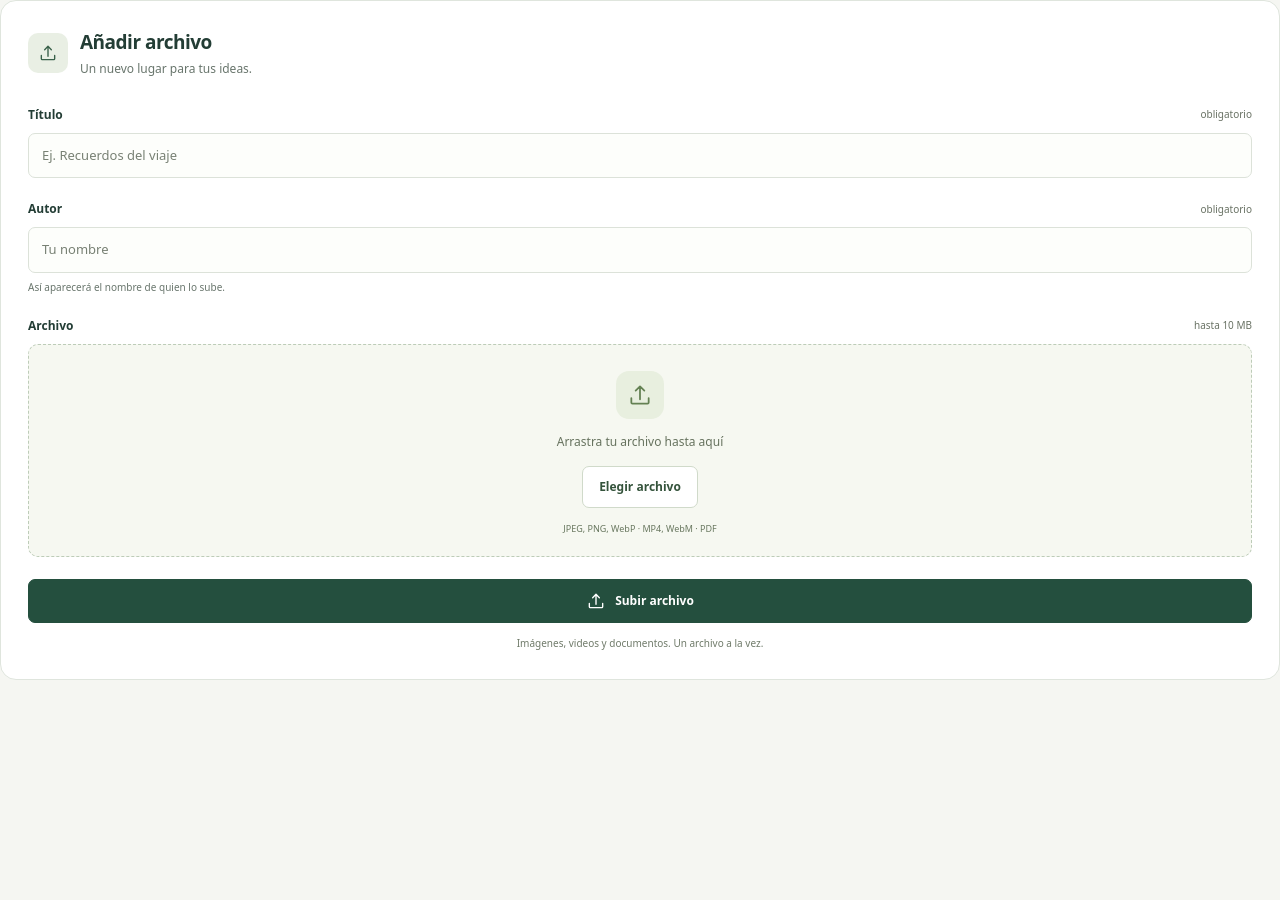
it: el formulario requiere título, autor y archivo y enfoca el primer error
The image size is (1280, 900).
Click the button "Subir archivo". click: point(640, 601)
box: x1=28 y1=579 x2=1252 y2=623
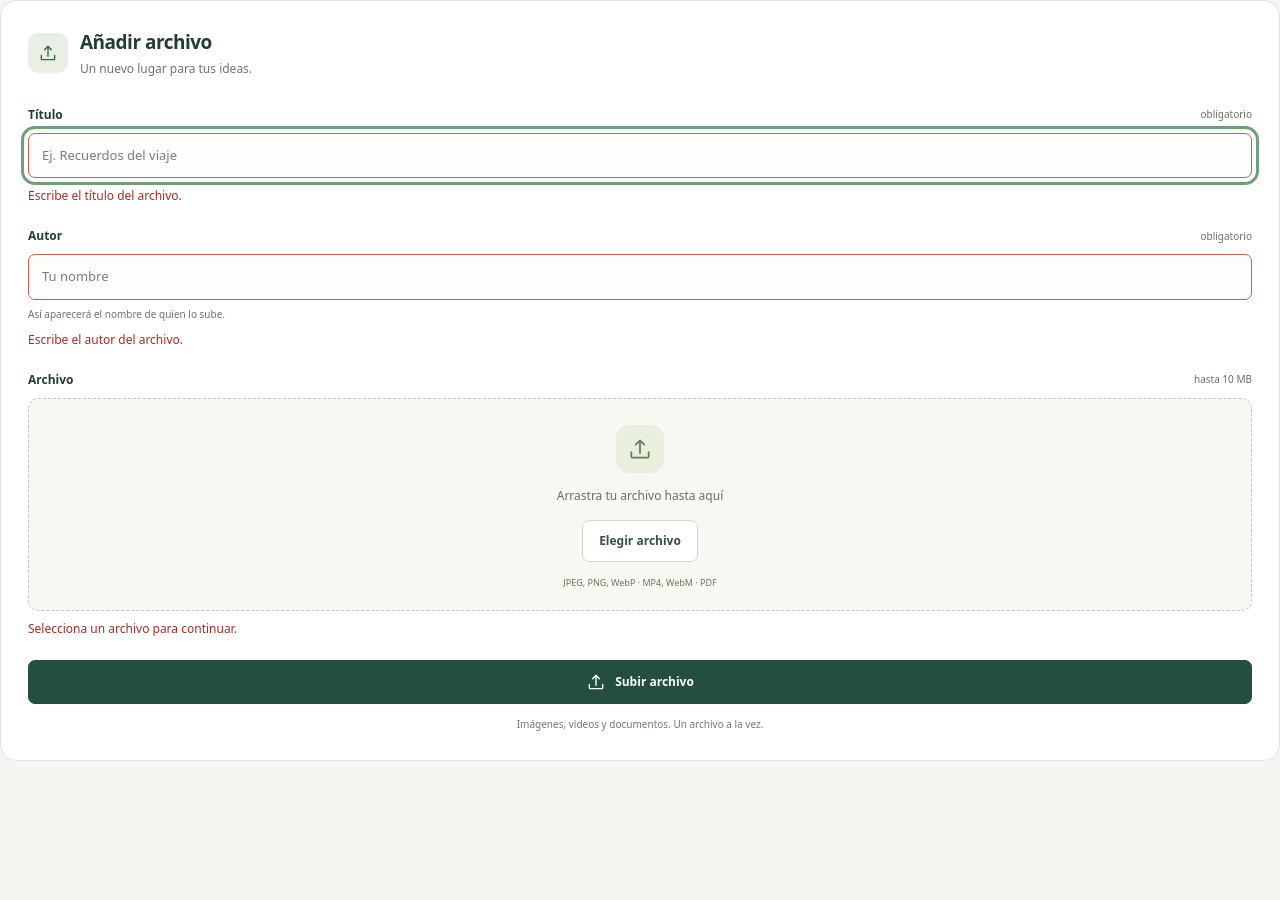
Result: the number of messages is 3 at x1=28 y1=187 x2=182 y2=204; x1=28 y1=331 x2=183 y2=348; x1=28 y1=620 x2=237 y2=637
